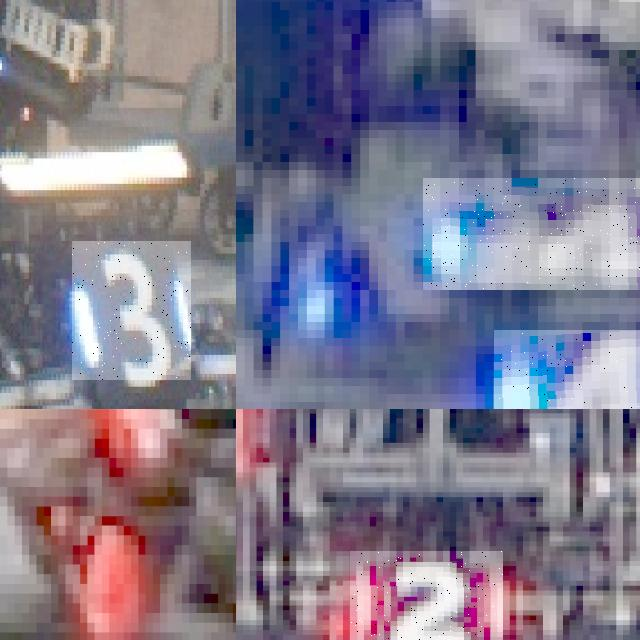B3: (72, 241, 191, 380)
B4: (422, 178, 640, 290), (493, 330, 640, 409)
R2: (349, 551, 503, 640)
